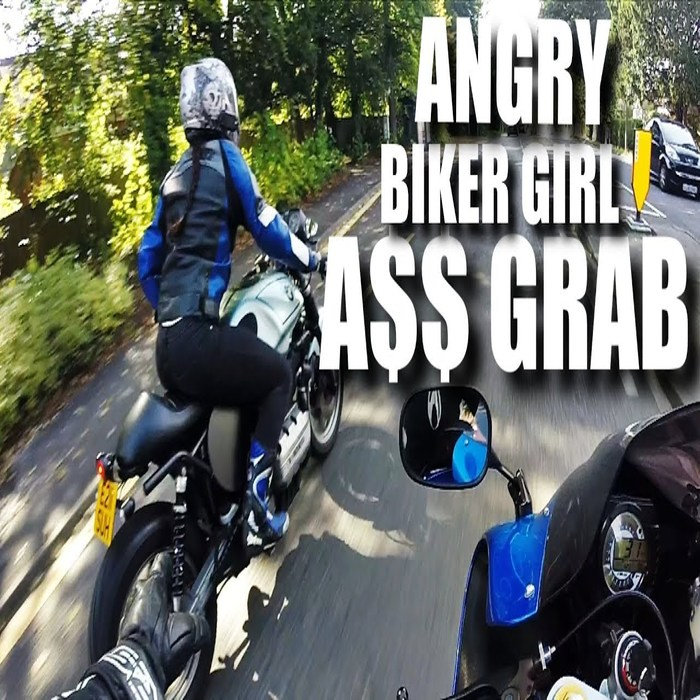h: (168, 54, 252, 157)
